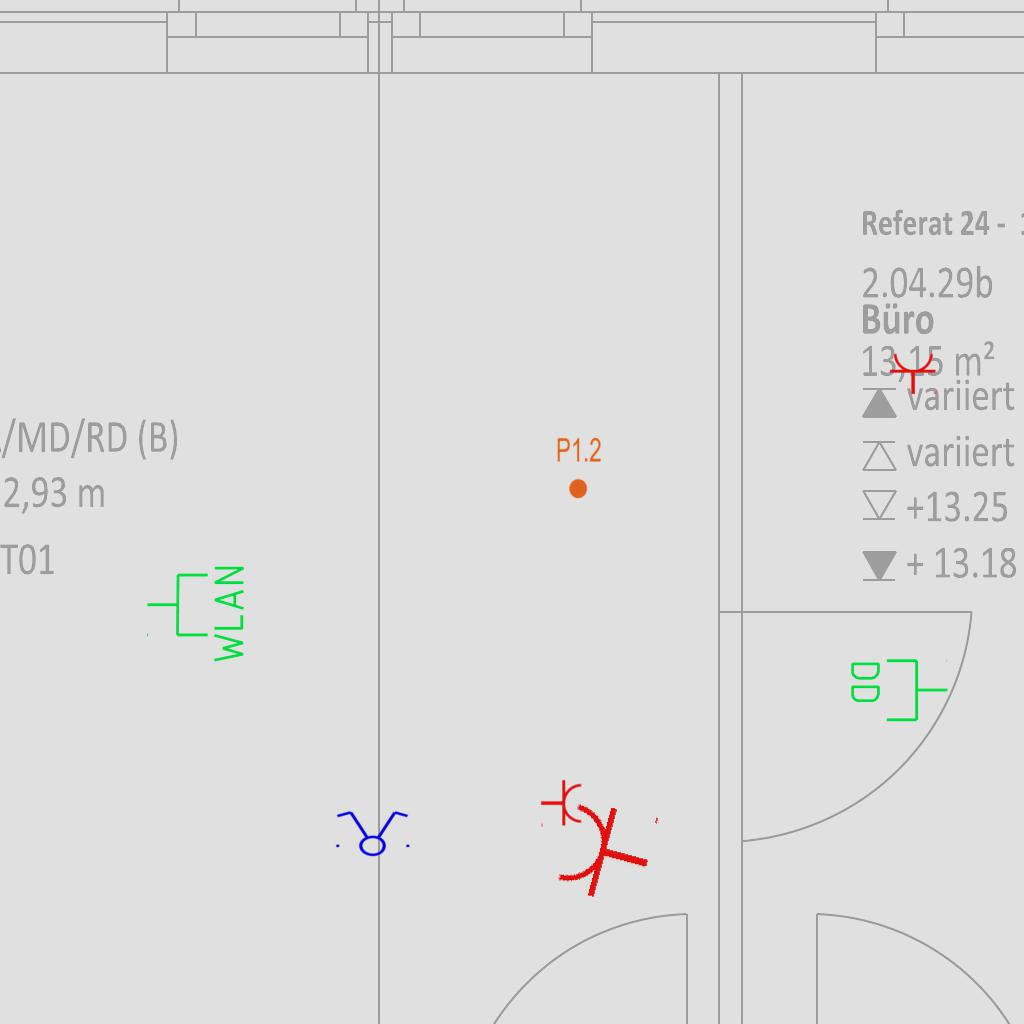Datenanschluss_zweifach: (847, 655, 950, 724)
Downlight_LED_Einbauleuchten_Flur: (556, 436, 602, 500)
Schukosteckdose_einfach: (552, 791, 663, 911), (540, 779, 583, 829), (889, 352, 939, 395)
Serienschalter: (330, 809, 414, 857)
WLAN: (144, 562, 248, 667)
